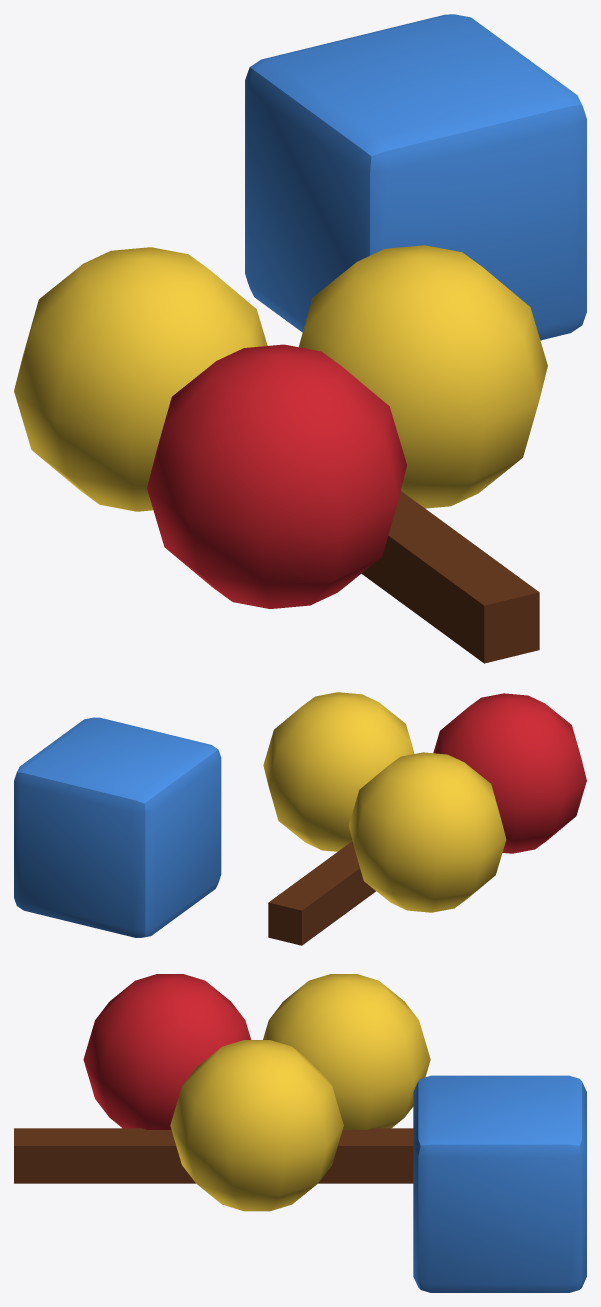
Rendered from RailClub.fbx.
The picture shows the model from 3 angles, top to bottom: view 1: azimuth 30°, elevation 25°; view 2: azimuth 150°, elevation 25°; view 3: azimuth 270°, elevation 25°; orthographic projection. The views are drawn at different scales.
Visible parts, largest first — view 1: RailClub; view 2: RailClub; view 3: RailClub.
Part boxes in pixels (x1,y1,x2,y2): RailClub: (14,14,586,663); RailClub: (14,692,586,945); RailClub: (14,974,586,1292).
Bounding box in the file's own units: 134 × 50 × 165.
